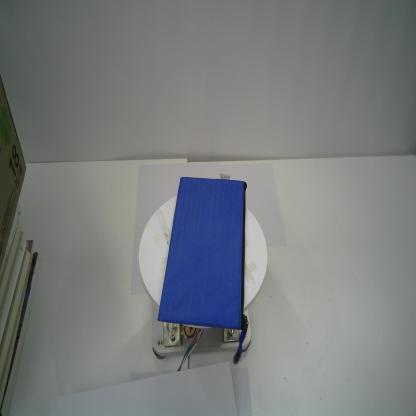Stationery: (157, 171, 251, 368)
